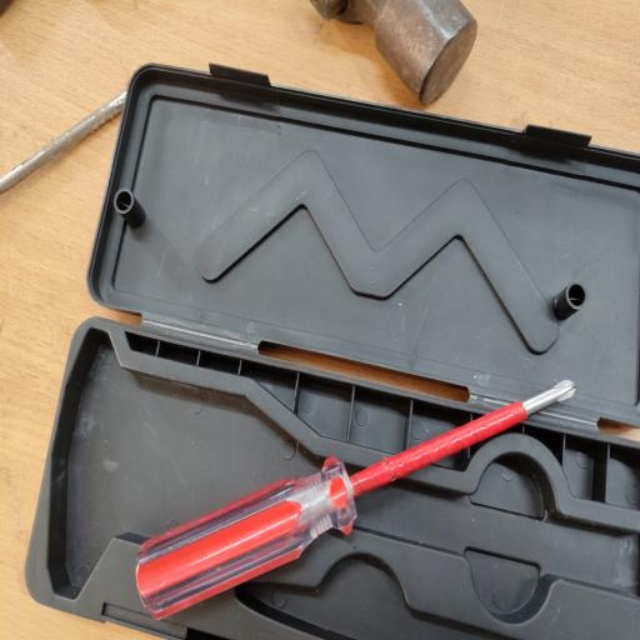screwdriver: (131, 373, 583, 626)
